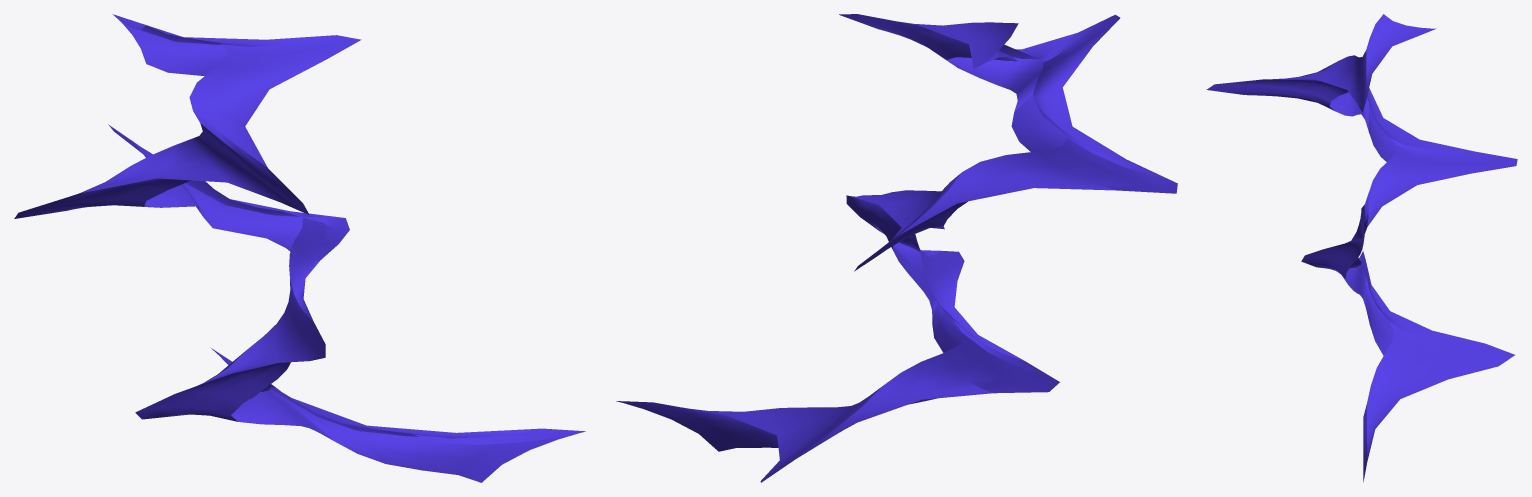
Rendered from swirl.gltf.
3 views of the same model, side by side, from view 1: azimuth 30°, elevation 25°; view 2: azimuth 150°, elevation 25°; view 3: azimuth 270°, elevation 25° (orthographic). The views are drawn at different scales.
Visible parts, largest first — view 1: sprangle; view 2: sprangle; view 3: sprangle.
Part boxes in pixels (box(x1,y1,x2,y2)): sprangle: box(14, 14, 585, 482); sprangle: box(616, 14, 1177, 482); sprangle: box(1206, 14, 1517, 482).
Bounding box in the file's own units: 7.07 × 6.2 × 5.03.
